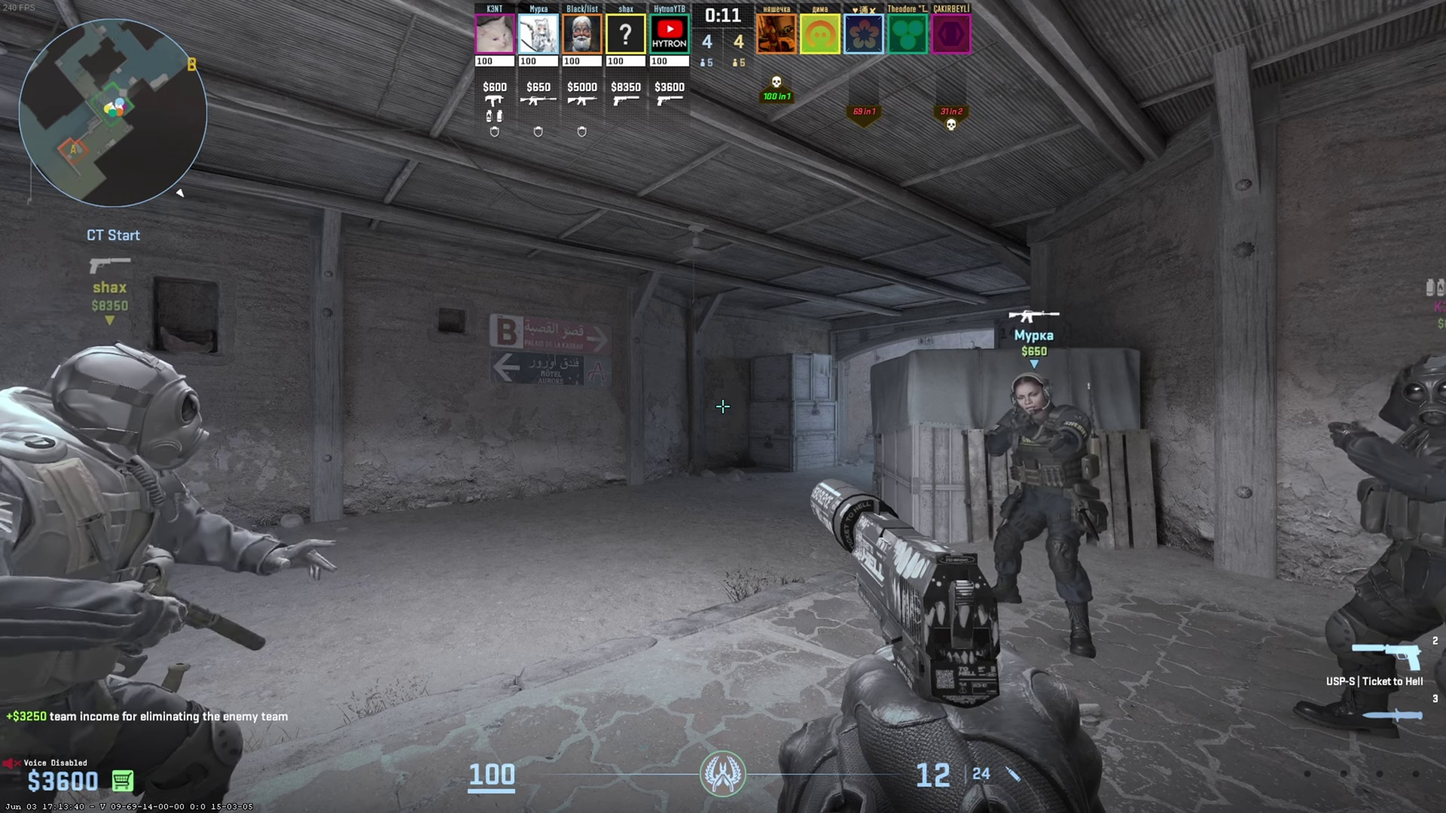CT: (3, 344, 261, 808), (1299, 358, 1446, 728), (983, 375, 1102, 657)
